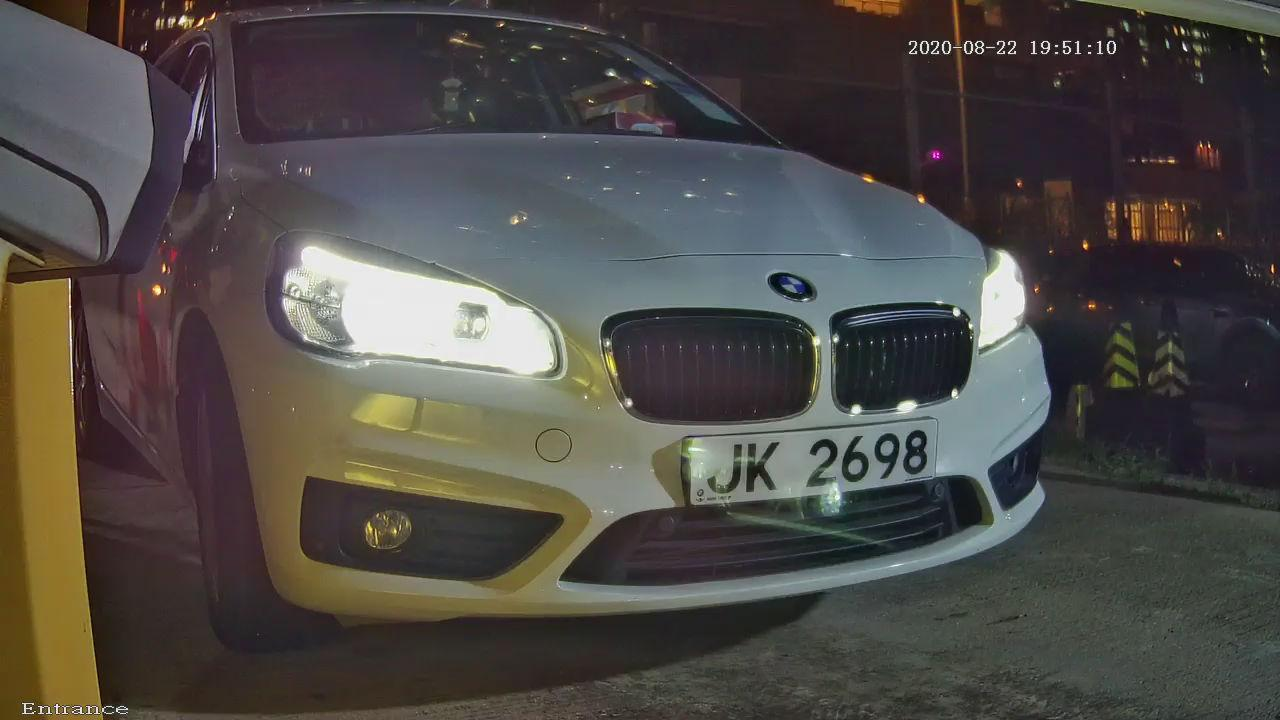Car: (69, 1, 1155, 695)
License Plate: (647, 390, 1011, 546)
